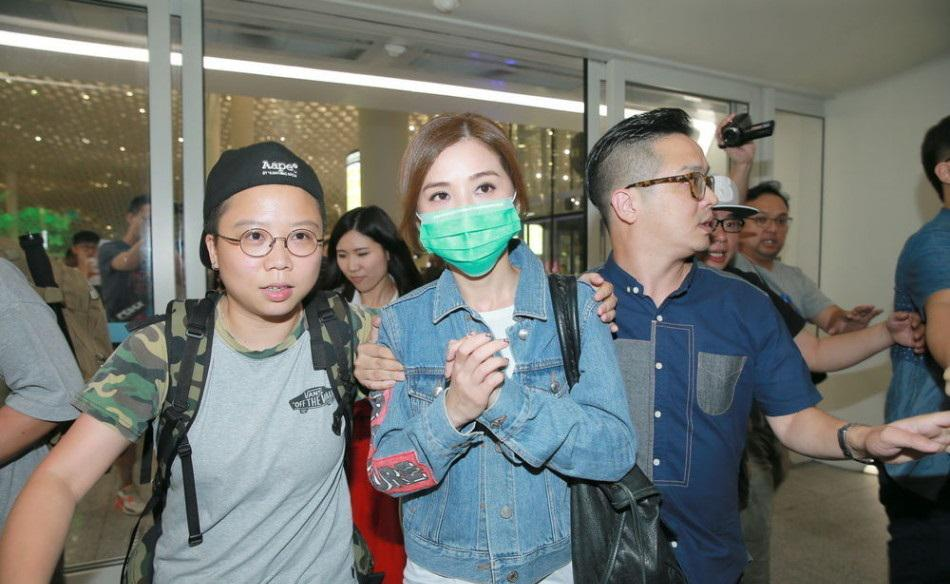NONE: (223, 205, 324, 315), (641, 161, 719, 248), (697, 217, 743, 268), (338, 240, 383, 287), (751, 210, 791, 253)
OK: (418, 170, 521, 273)
